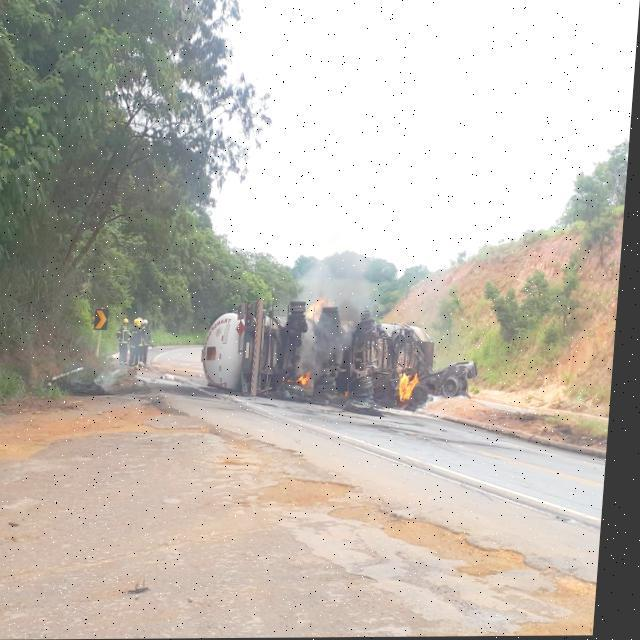Fire: (403, 372, 425, 403), (304, 374, 318, 385)
